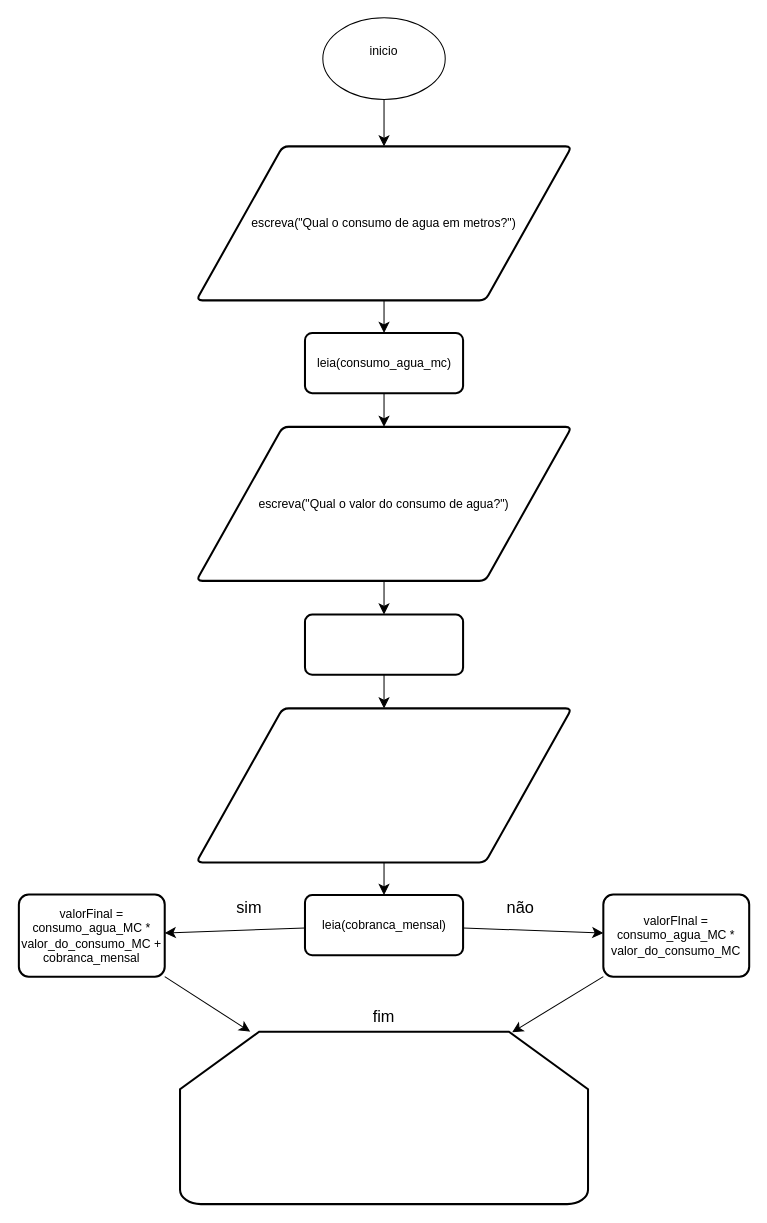
The diagram is 767 pixels wide and 1223 high, and some of its shapes have lost their labels. The centre of each missing label's shape, as x and y in pixels:
escreva("Existe uma cobrança de esgoto?"): point 383,785
escreva("O valor aproximado da conta de água é de: R$ ", valorFinal): point 383,1117
leia(valor_do_consumo_MC): point 383,644
